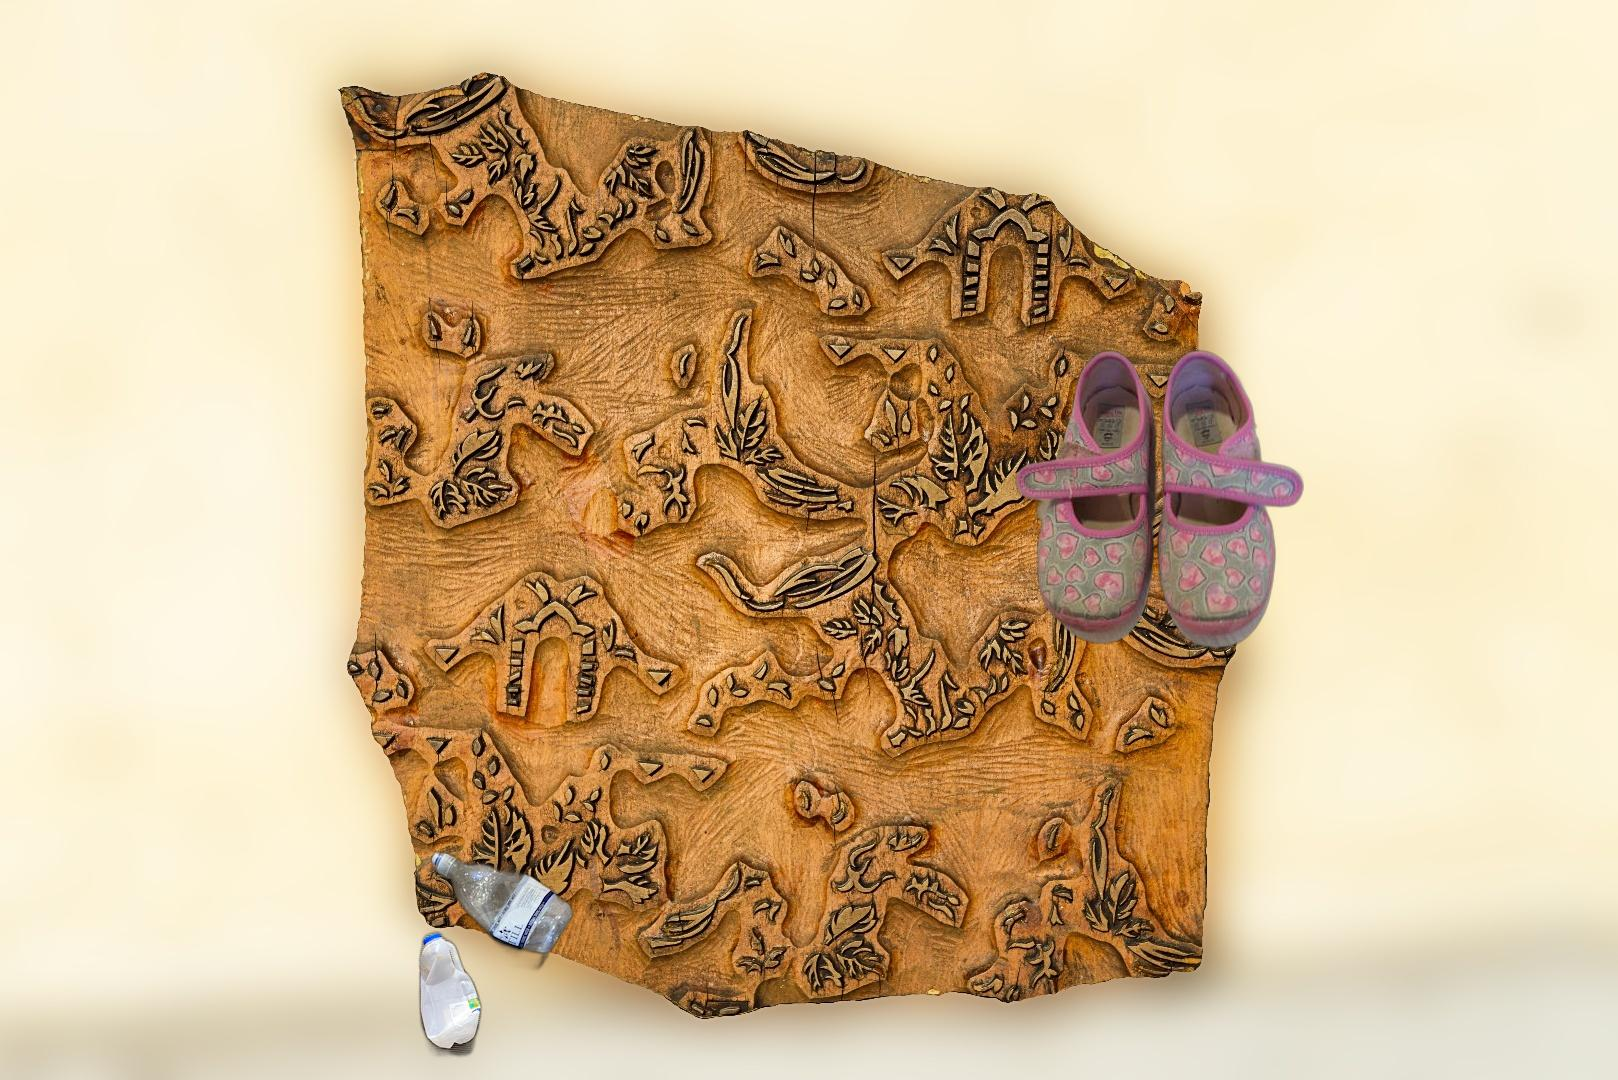plastic-bottles: (428, 847, 577, 973), (414, 927, 486, 1060)
shoes: (1012, 346, 1306, 652)
